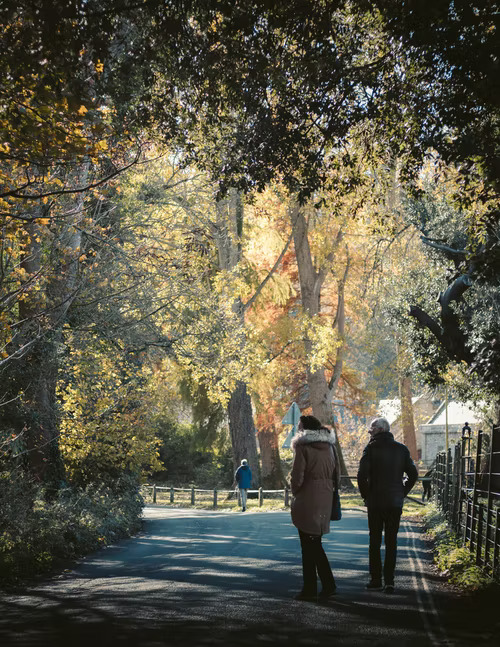person: (356, 418, 419, 589), (292, 416, 342, 596)
